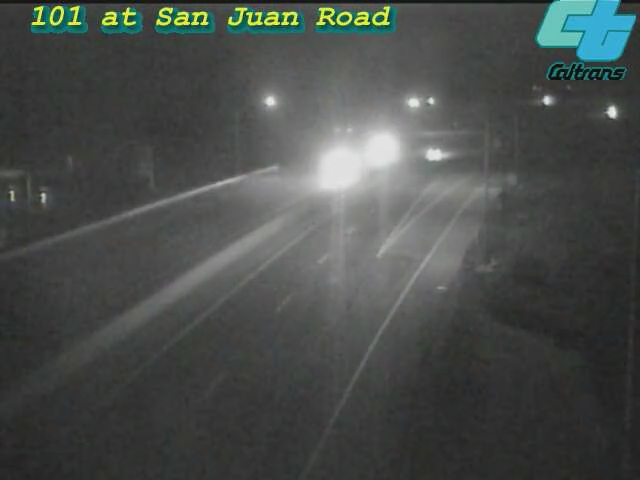vehicle: (294, 130, 374, 210), (340, 112, 420, 192), (396, 115, 476, 195), (584, 88, 634, 138)
